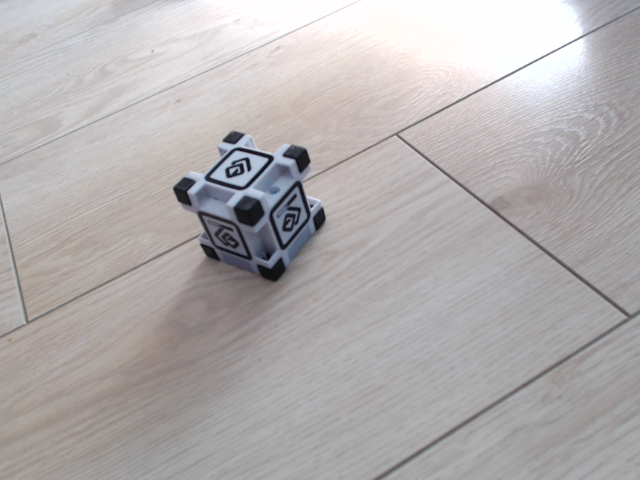block: (172, 126, 332, 291)
